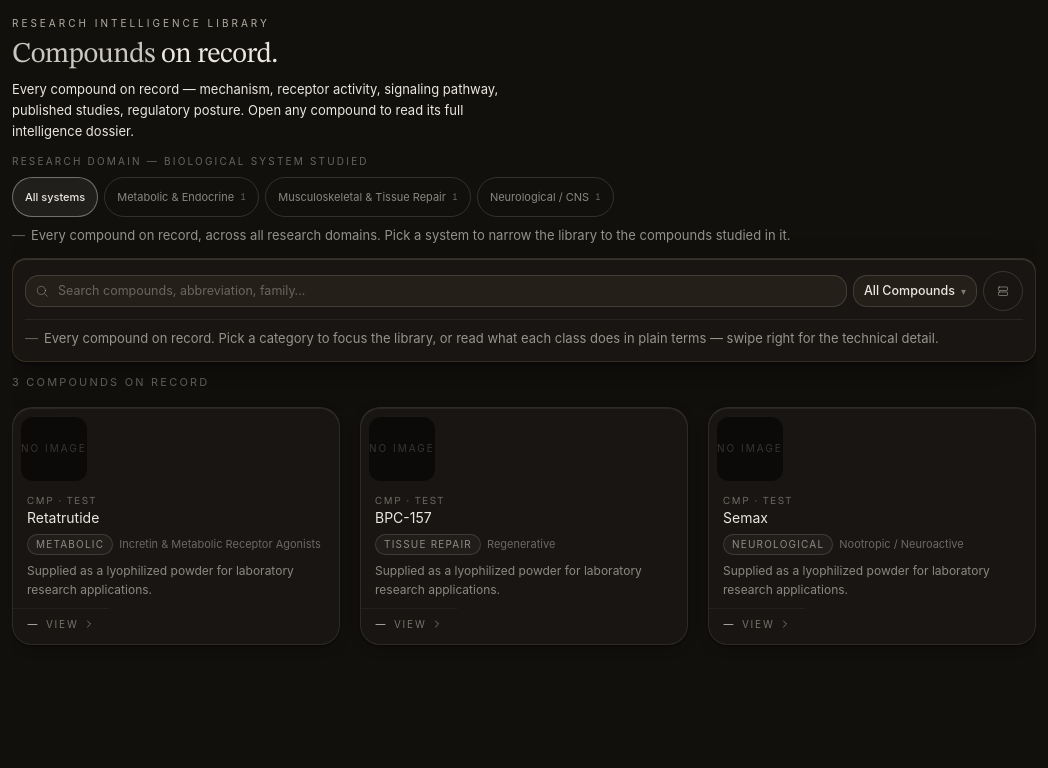
it: biological-system filter on the research library › returning to all systems restores the full record
The image size is (1048, 768).
Click the button "Neurological / CNS 1": point(546, 197) [477,177,614,217]
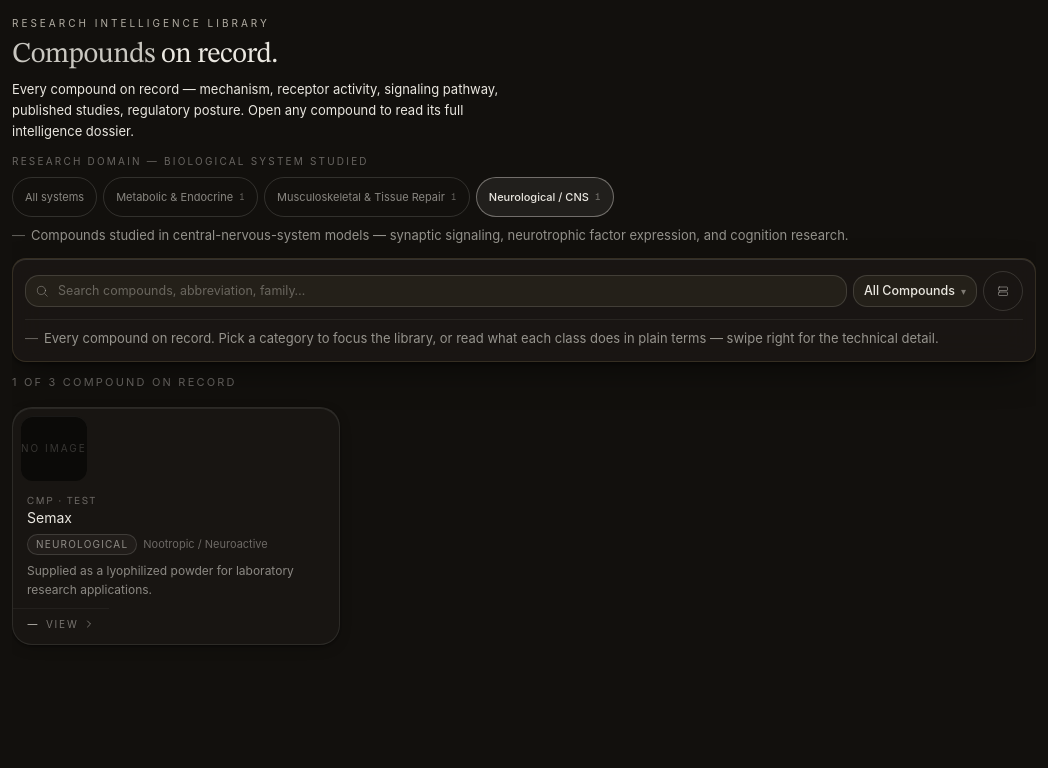
Click the button "All systems": point(55, 197) [12,177,97,217]
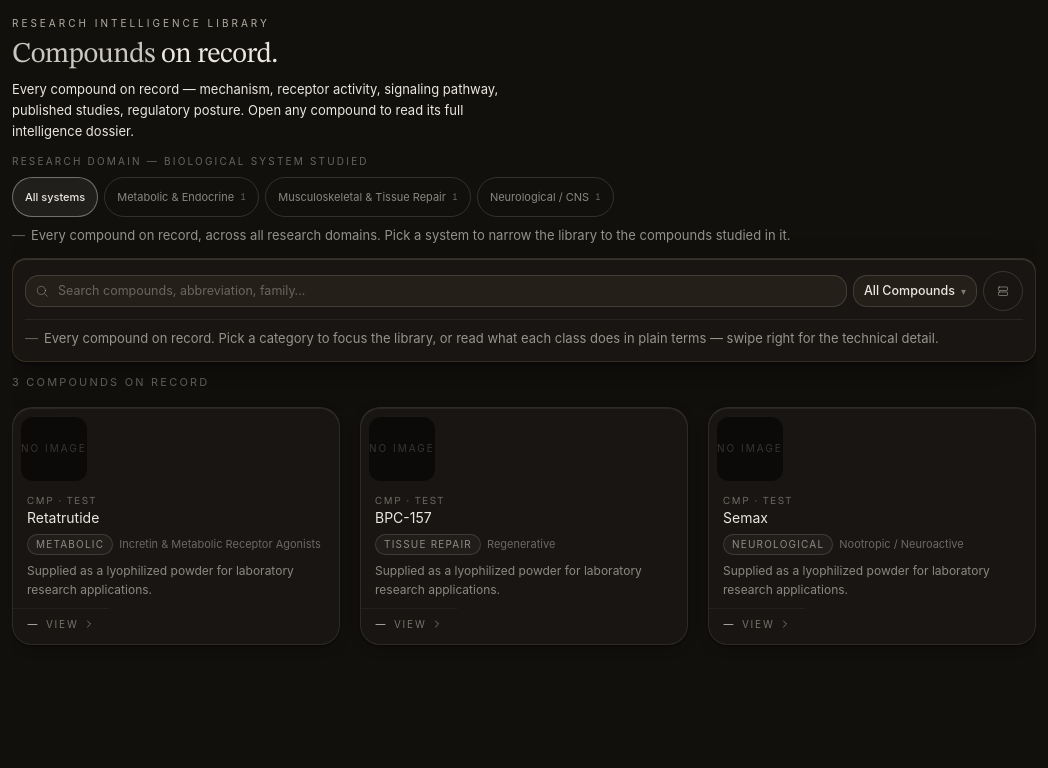
Expected: the heading "Semax" is shown, [723,509,768,526]
Expected: the heading "Retatrutide" is shown, [27,509,99,526]
Expected: the heading "BPC-157" is shown, [375,509,432,526]
